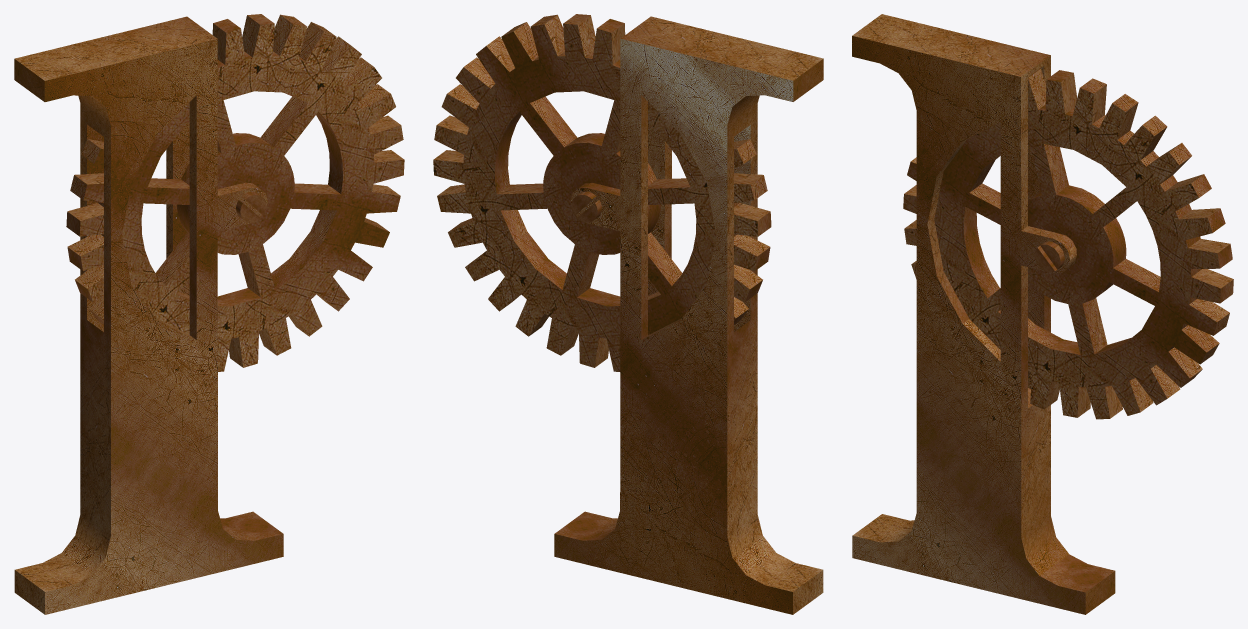
3 renders of one model, left to right at view 1: azimuth 30°, elevation 25°; view 2: azimuth 150°, elevation 25°; view 3: azimuth 330°, elevation 25°, orthographic. The views are drawn at different scales.
Visible parts, largest first — view 1: P, Cogwheel_258, Screw_835; view 2: P, Cogwheel_258, Screw_835; view 3: P, Cogwheel_258, Screw_835.
Boxes of the visible parts, x1,y1,x2,y2 form: P: (14,16,283,614); Cogwheel_258: (66,14,404,371); Screw_835: (236,192,266,222); P: (554,16,823,614); Cogwheel_258: (433,14,771,371); Screw_835: (571,191,601,222); P: (852,14,1115,614); Cogwheel_258: (903,68,1233,419); Screw_835: (1034,241,1064,272).
Bounding box in the file's own units: 69.91 × 96.82 × 12.89.
Materials: 1 (1 with a texture image).
